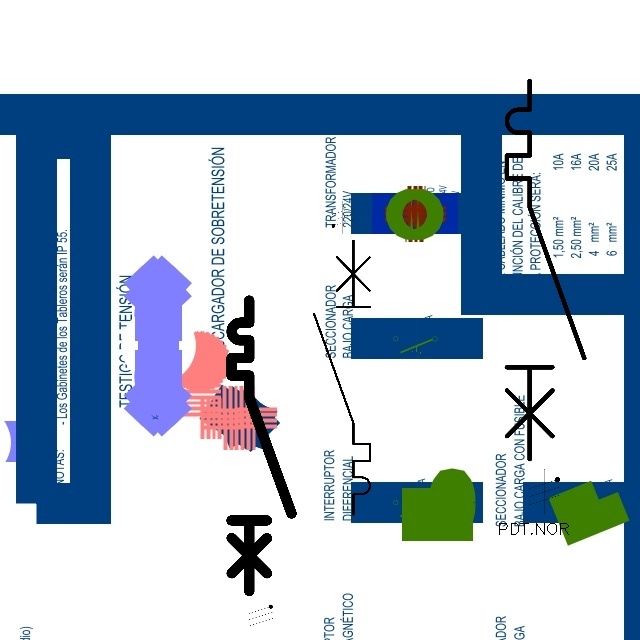interruptor_termomagnetico: (497, 71, 594, 469), (224, 293, 298, 598), (307, 233, 377, 522)
